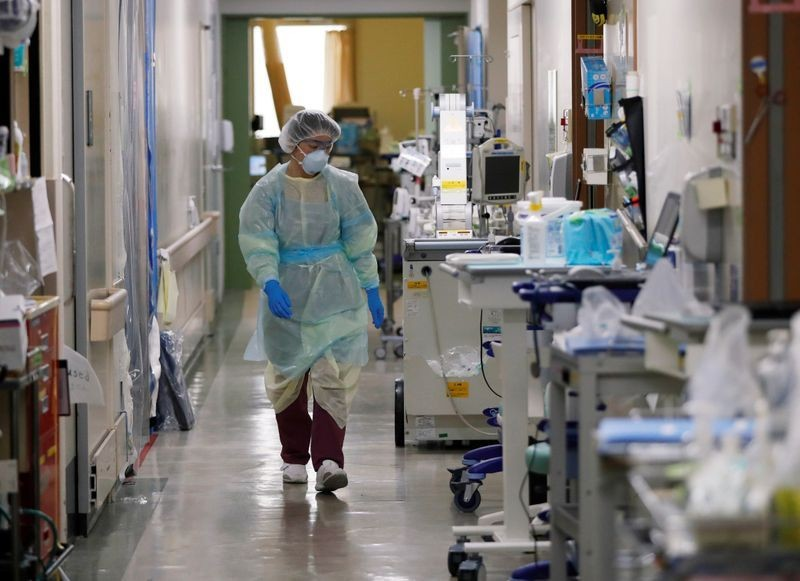Coverall: (236, 157, 378, 433)
Gloves: (261, 279, 291, 322), (366, 289, 385, 327)
Goggles: (293, 135, 334, 154)
with_mask: (297, 139, 332, 180)
